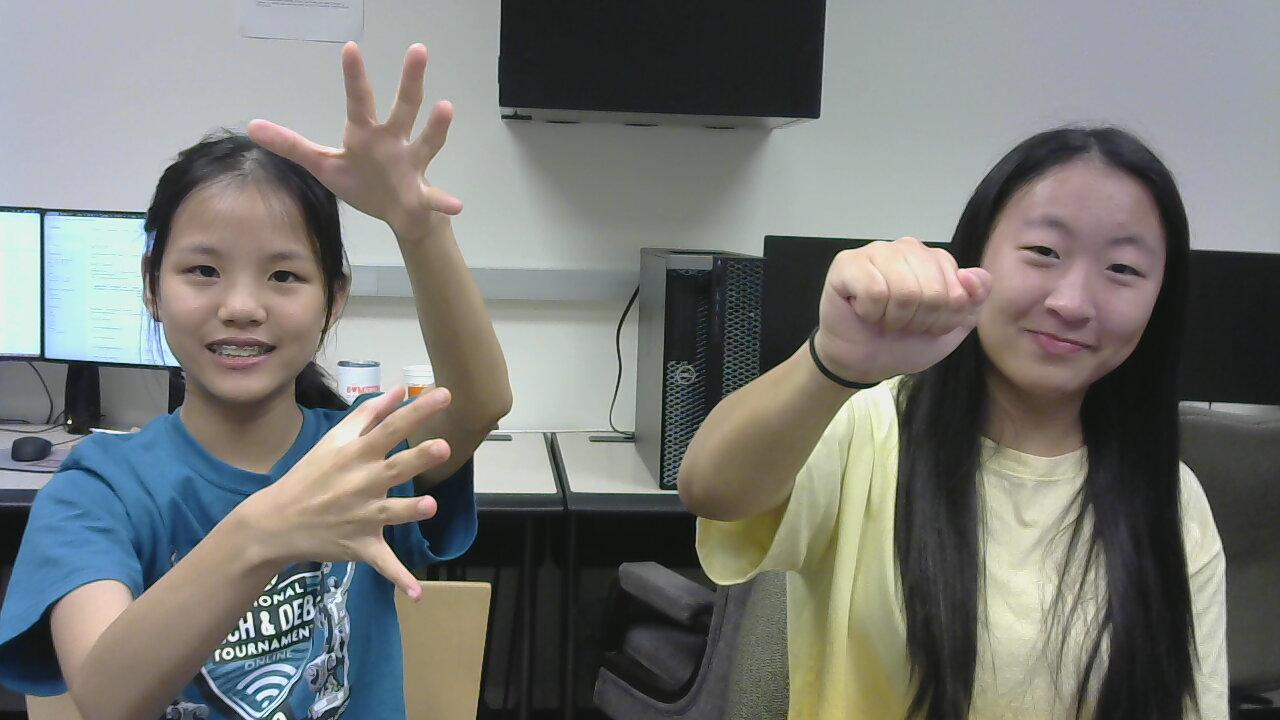fist: (798, 204, 998, 370)
hands: (236, 10, 498, 222), (279, 368, 466, 610)
